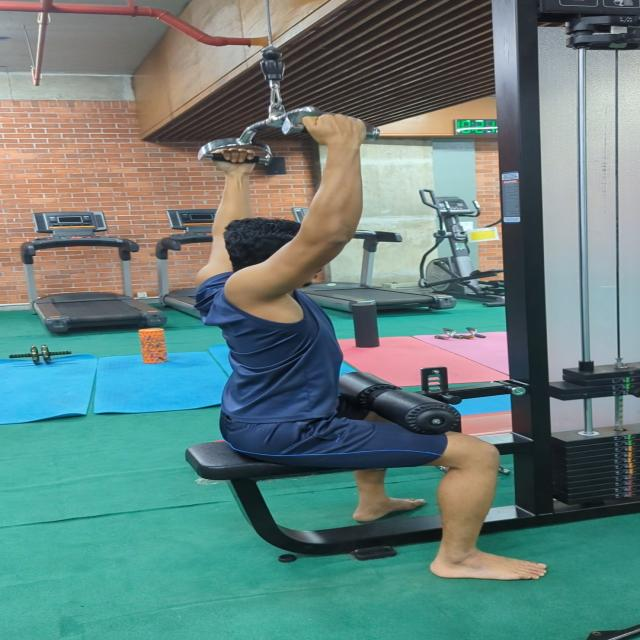Normal_LatPulldown: (172, 112, 566, 590)
